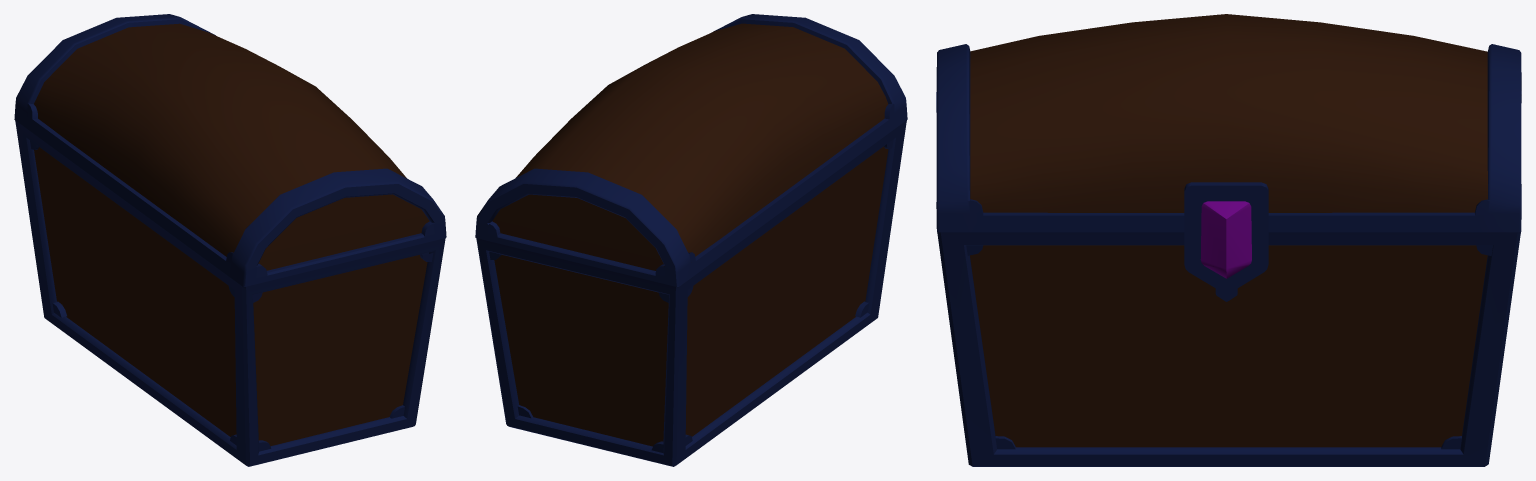
File: chest.obj
3 renders of one model, left to right at view 1: azimuth 30°, elevation 25°; view 2: azimuth 150°, elevation 25°; view 3: azimuth 270°, elevation 25°, orthographic. The views are drawn at different scales.
Parts seen in each view (by area): view 1: chest; view 2: chest; view 3: chest.
Boxes of the visible parts, box(x1,y1,x2,y2) form: chest: box(14, 14, 446, 466); chest: box(475, 14, 907, 466); chest: box(936, 14, 1521, 466).
Size of the model in its own units: 2.12 by 2.77 by 3.85.
